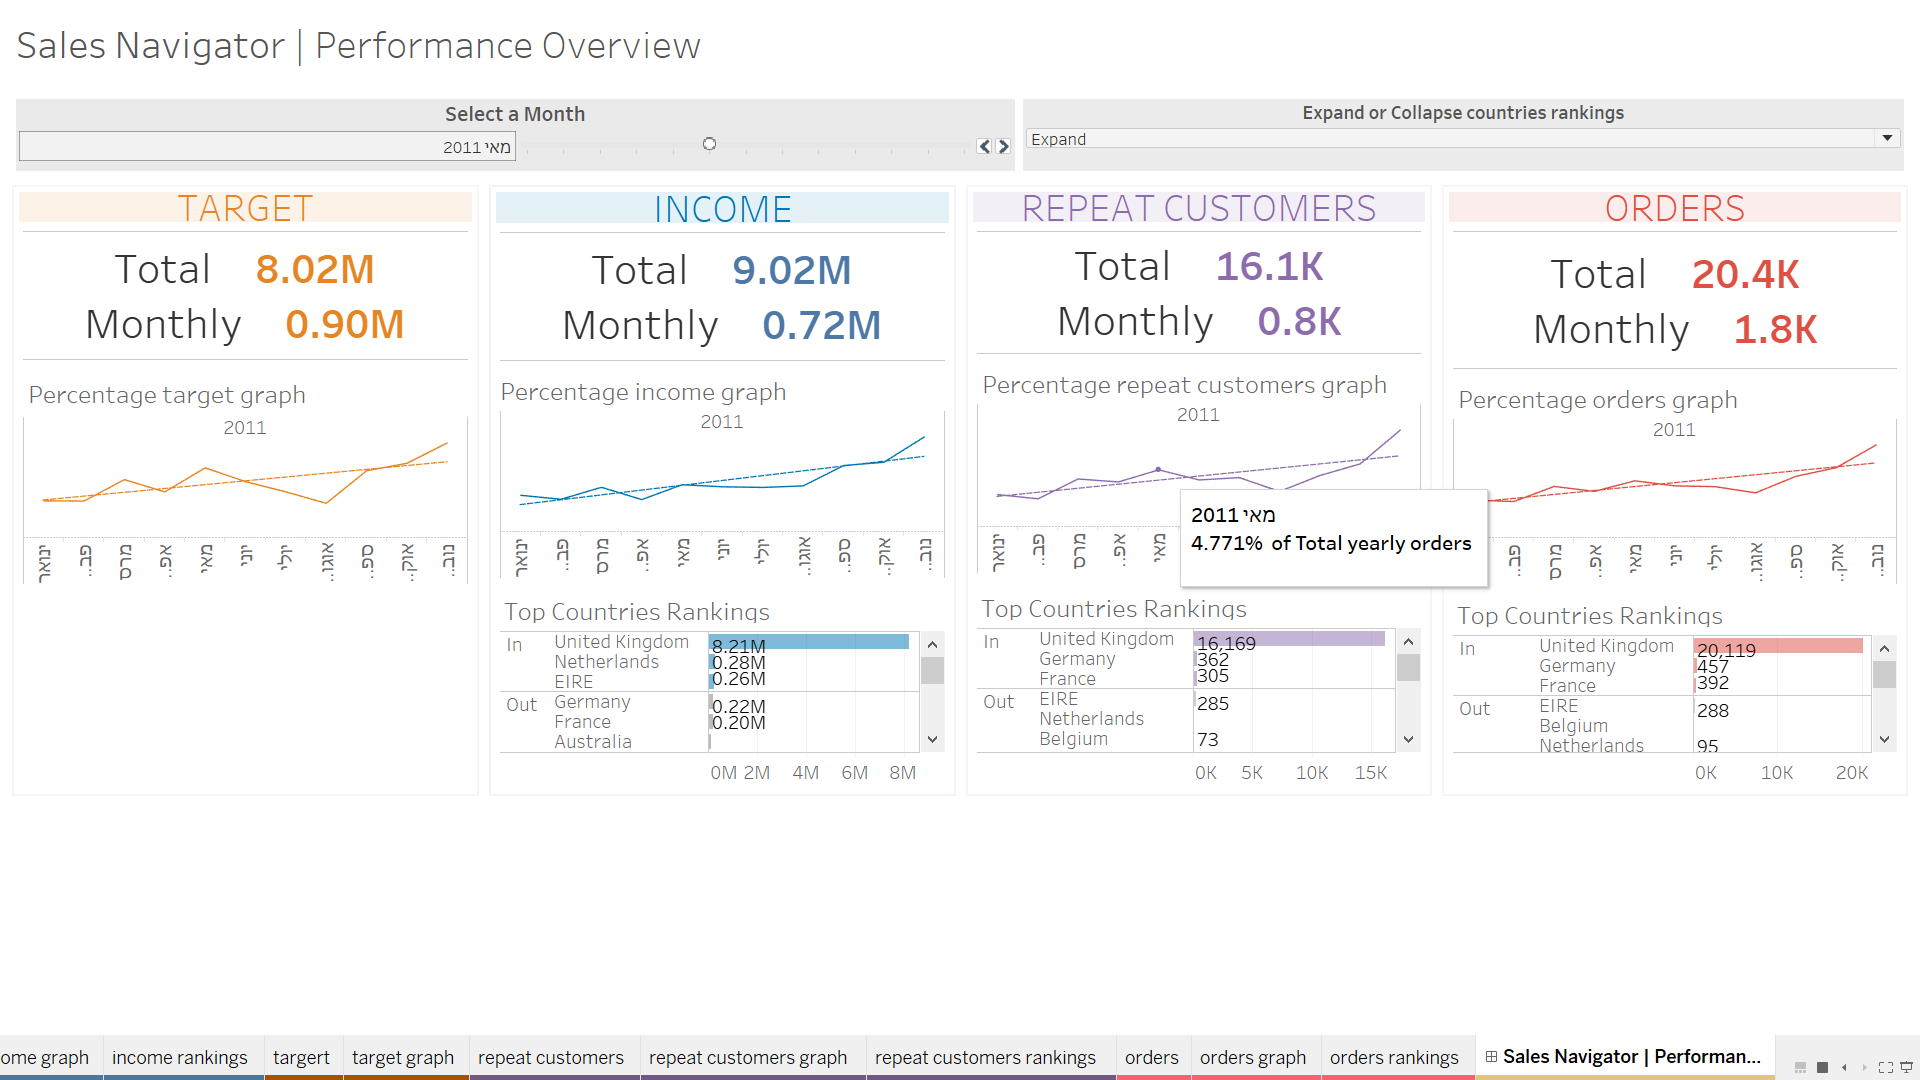

The dashboard page shown, as its layout file describes it:
{"tool":"tableau","page":{"name":"Sales Navigator | Performance Overview","canvas":[1000,1000],"units":"permille","ordinal":0},"visuals":[{"type":"worksheet","param":"horz","box":[6.2,6.1,990.6,89.2]},{"type":"worksheet","box":[6.2,6.1,691.4,89.2]},{"type":"worksheet","box":[697.6,6.1,299.2,89.2]},{"type":"worksheet","param":"horz","box":[3.4,6.3,993.2,987.3]},{"type":"worksheet","param":"horz","box":[3.4,6.3,993.2,987.3]},{"type":"worksheet","param":"vert","box":[3.4,6.3,993.2,987.3]},{"type":"worksheet","param":"horz","box":[3.4,6.3,993.2,101.5]},{"type":"worksheet","param":"horz","box":[3.1,107.6,993.8,110]},{"type":"worksheet","param":"vert","box":[3.4,107.8,993.2,110]},{"type":"worksheet","param":"horz","box":[6.2,113.7,987.5,97.8]},{"type":"worksheet","title":"income","mark":"Automatic","cols":["InvoiceDate"],"param":"[federated.0o116my1x7otli1cwaf0f1yntl69].[my:InvoiceDate:ok]","box":[6.2,113.7,627.8,97.8]},{"type":"worksheet","param":"[Parameters].[Parameter 2]","box":[634.1,113.7,359.7,97.8]},{"type":"worksheet","param":"vert","box":[3.1,217.6,248.8,759.2]},{"type":"worksheet","param":"vert","box":[251.9,217.6,248.8,759.2]},{"type":"worksheet","param":"vert","box":[500.6,217.6,248.1,759.2]},{"type":"worksheet","param":"vert","box":[748.8,217.6,248.1,759.2]},{"type":"worksheet","param":"horz","box":[3.4,217.8,993.2,759.2]},{"type":"worksheet","box":[10.6,232.3,233.8,42.8]},{"type":"worksheet","box":[259.4,232.3,233.8,44]},{"type":"worksheet","box":[508.1,232.3,233.2,42.8]},{"type":"worksheet","box":[756.2,232.3,233.2,42.8]},{"type":"worksheet","title":"targert","mark":"Automatic","cols":["InvoiceDate"],"box":[10.6,275,233.8,167.5]},{"type":"worksheet","title":"repeat customers","mark":"Automatic","cols":["InvoiceDate"],"box":[508.1,275,233.2,160.2]},{"type":"worksheet","title":"orders","mark":"Automatic","cols":["InvoiceDate"],"box":[756.2,275,233.2,178.5]},{"type":"worksheet","title":"income","mark":"Automatic","cols":["InvoiceDate"],"box":[259.4,276.3,233.8,167.5]},{"type":"worksheet","param":"vert","box":[508.1,435.2,233.2,286.1]},{"type":"worksheet","param":"vert","box":[10.6,442.5,233.8,287.3]},{"type":"worksheet","param":"vert","box":[259.4,443.8,233.8,281.2]},{"type":"worksheet","box":[508.1,447.4,233.2,39.1]},{"type":"worksheet","param":"vert","box":[756.2,453.5,233.2,276.3]},{"type":"worksheet","box":[10.6,454.7,233.8,47.7]},{"type":"worksheet","box":[259.4,456,233.8,39.1]},{"type":"worksheet","box":[756.2,465.7,233.2,39.1]},{"type":"worksheet","title":"repeat customers graph","mark":"Automatic","cols":["InvoiceDate","InvoiceDate"],"box":[508.1,486.5,233.2,217.6]},{"type":"worksheet","title":"income graph","mark":"Automatic","cols":["InvoiceDate","InvoiceDate"],"box":[259.4,495.1,233.8,216.4]},{"type":"worksheet","title":"target graph","mark":"Automatic","cols":["InvoiceDate","InvoiceDate"],"box":[10.6,502.4,233.8,215.2]},{"type":"worksheet","title":"orders graph","mark":"Automatic","cols":["InvoiceDate","InvoiceDate"],"box":[756.2,504.9,233.2,212.7]},{"type":"worksheet","param":"vert","box":[508.1,721.2,233.2,240.9]},{"type":"worksheet","box":[508.1,721.2,233.2,39.1]},{"type":"worksheet","param":"vert","box":[259.4,724.9,233.8,237.2]},{"type":"worksheet","box":[259.4,724.9,233.8,39.1]},{"type":"worksheet","param":"vert","box":[756.2,729.8,233.2,232.3]},{"type":"worksheet","param":"vert","box":[756.2,729.8,233.2,232.3]},{"type":"worksheet","box":[756.2,729.8,233.2,39.1]},{"type":"worksheet","title":"repeat customers rankings","mark":"Automatic","rows":["Top N Contries by repeat customers","Calculation_548876208586371078"],"cols":["Calculation_548876208560828418"],"box":[508.1,760.4,233.2,201.7]},{"type":"worksheet","title":"income rankings","mark":"Automatic","rows":["Top N Customers by Sales","Calculation_1362901841071689734"],"cols":["Calculation_1478869531047911428"],"box":[259.4,764,233.8,198.1]},{"type":"worksheet","title":"orders rankings","mark":"Automatic","rows":["Top N Countries by Orders","Calculation_548876208599461895"],"cols":["InvoiceNo"],"box":[756.2,769,233.2,193.2]}]}

Visuals, with their boxes on the dashboard's canvas, which has no fixed pixel size, in thousandths of its width and height (x1, y1, x2, y2). These are canvas units, not pixel positions in the 1920x1080 screenshot, which may show the page scaled, cropped or inside an application window:
worksheet: 6,6,997,95
worksheet: 6,6,698,95
worksheet: 698,6,997,95
worksheet: 3,6,997,994
worksheet: 3,6,997,994
worksheet: 3,6,997,994
worksheet: 3,6,997,108
worksheet: 3,108,997,218
worksheet: 3,108,997,218
worksheet: 6,114,994,212
"income" worksheet: 6,114,634,212
worksheet: 634,114,994,212
worksheet: 3,218,252,977
worksheet: 252,218,501,977
worksheet: 501,218,749,977
worksheet: 749,218,997,977
worksheet: 3,218,997,977
worksheet: 11,232,244,275
worksheet: 259,232,493,276
worksheet: 508,232,741,275
worksheet: 756,232,989,275
"targert" worksheet: 11,275,244,442
"repeat customers" worksheet: 508,275,741,435
"orders" worksheet: 756,275,989,454
"income" worksheet: 259,276,493,444
worksheet: 508,435,741,721
worksheet: 11,442,244,730
worksheet: 259,444,493,725
worksheet: 508,447,741,486
worksheet: 756,454,989,730
worksheet: 11,455,244,502
worksheet: 259,456,493,495
worksheet: 756,466,989,505
"repeat customers graph" worksheet: 508,486,741,704
"income graph" worksheet: 259,495,493,712
"target graph" worksheet: 11,502,244,718
"orders graph" worksheet: 756,505,989,718
worksheet: 508,721,741,962
worksheet: 508,721,741,760
worksheet: 259,725,493,962
worksheet: 259,725,493,764
worksheet: 756,730,989,962
worksheet: 756,730,989,962
worksheet: 756,730,989,769
"repeat customers rankings" worksheet: 508,760,741,962
"income rankings" worksheet: 259,764,493,962
"orders rankings" worksheet: 756,769,989,962
